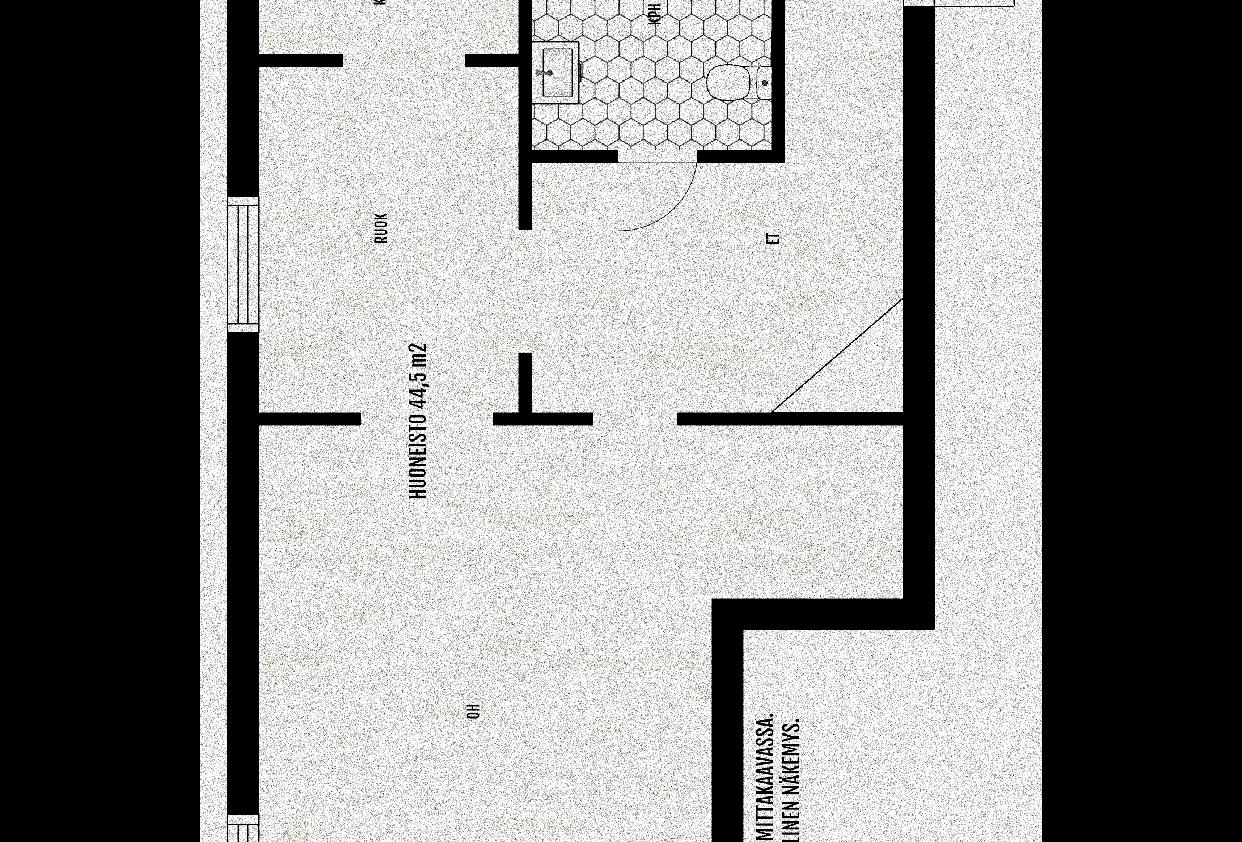door: (601, 142, 705, 246)
window: (229, 198, 260, 334)
zone: (258, 427, 906, 842), (533, 0, 906, 411), (259, 65, 517, 415), (529, 0, 774, 150), (254, 0, 525, 63)
